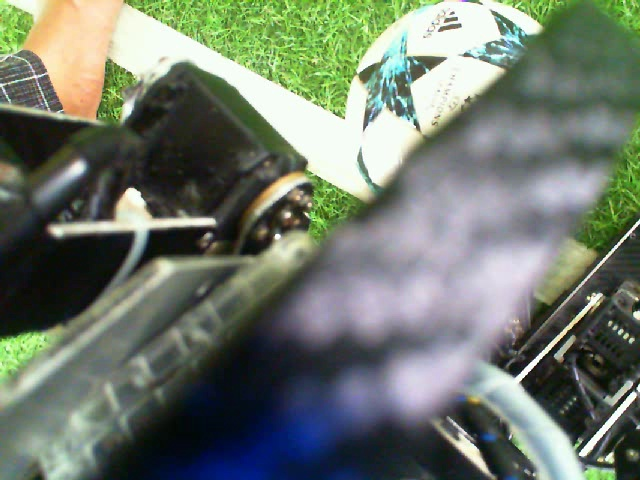ball: (343, 1, 548, 209)
